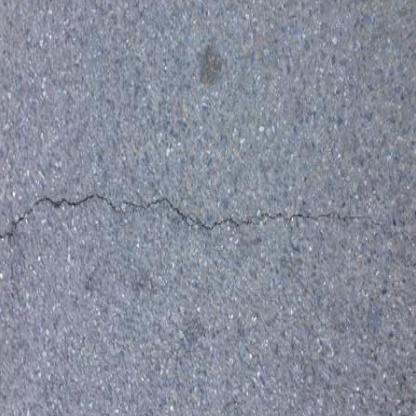Cracks: (0, 162, 416, 255)
